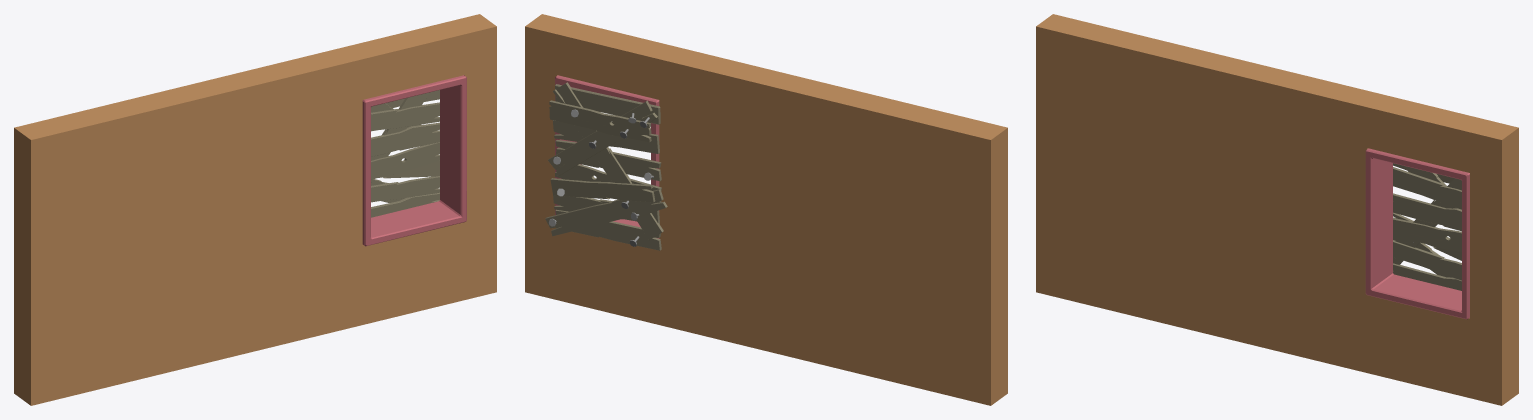
File: RightWoodPlankWindow.fbx
The picture shows the model from 3 angles, left to right: view 1: azimuth 30°, elevation 25°; view 2: azimuth 150°, elevation 25°; view 3: azimuth 330°, elevation 25°; orthographic projection.
Visible parts, largest first — view 1: pCube35; view 2: pCube35; view 3: pCube35.
Part boxes in pixels (<box>): pCube35: <box>14,14,496,405</box>; pCube35: <box>525,14,1007,405</box>; pCube35: <box>1036,14,1518,405</box>.
Bounding box in the file's own units: 8.84 × 4.82 × 1.11.
